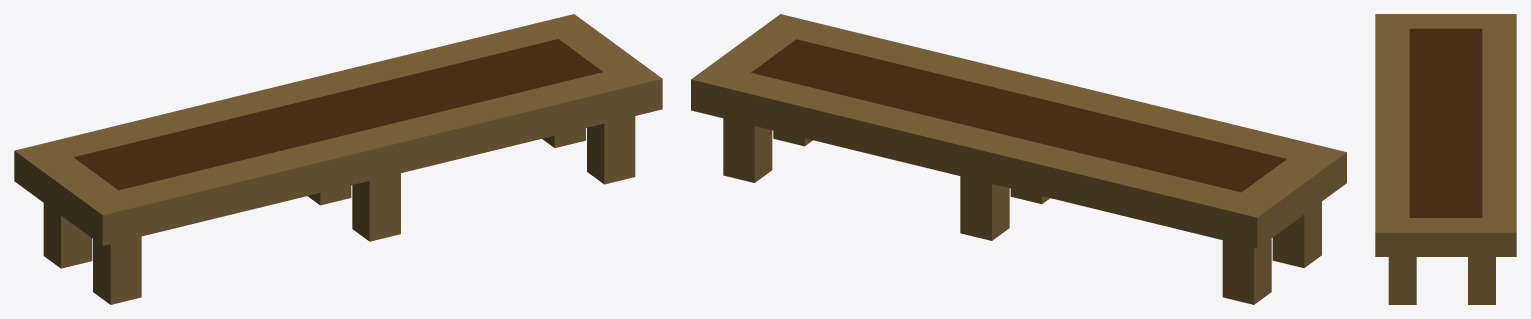
Rendered from bench4.FBX.
3 views of the same model, side by side, from view 1: azimuth 30°, elevation 25°; view 2: azimuth 150°, elevation 25°; view 3: azimuth 270°, elevation 25° (orthographic). The views are drawn at different scales.
Parts seen in each view (by area): view 1: bench4; view 2: bench4; view 3: bench4.
Boxes of the visible parts, x1,y1,x2,y2 form: bench4: (14, 14, 662, 304); bench4: (691, 14, 1346, 304); bench4: (1375, 14, 1516, 304).
Bounding box in the file's own units: 4.3 × 0.7314 × 1.18.
